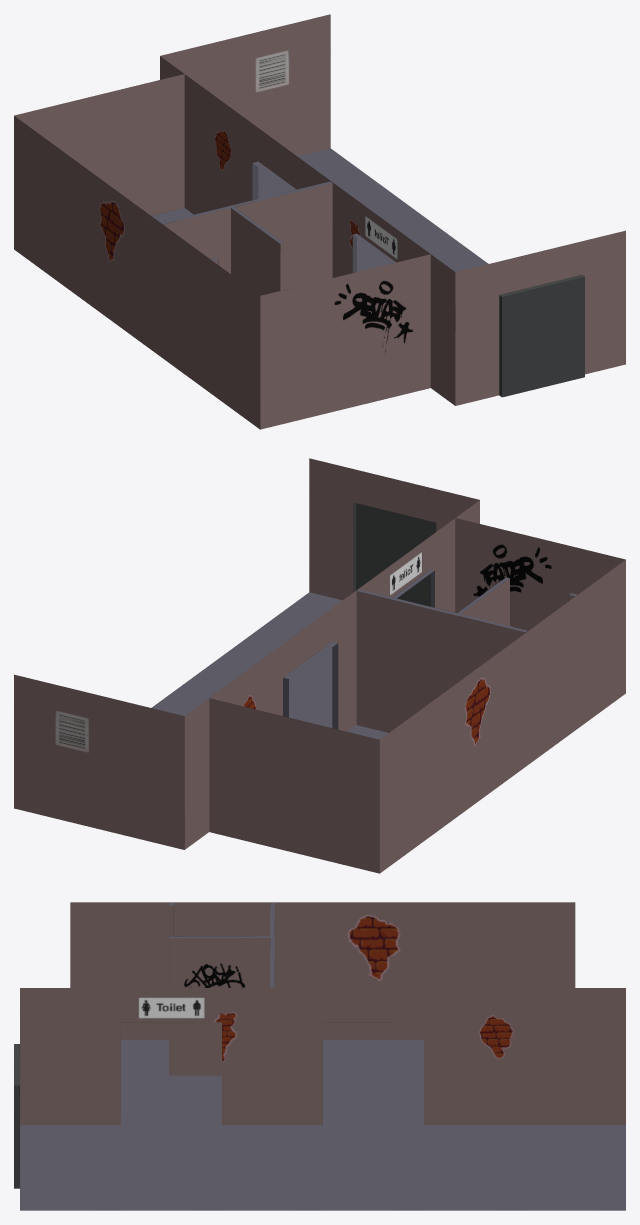
The model's file is ClubHallway.fbx.
3 views of the same model, one above another, from view 1: azimuth 30°, elevation 25°; view 2: azimuth 150°, elevation 25°; view 3: azimuth 270°, elevation 25° (orthographic). The views are drawn at different scales.
Parts seen in each view (by area): view 1: BaseHallway, BaseHallway.002, BaseHallway.001; view 2: BaseHallway, BaseHallway.002, BaseHallway.001; view 3: BaseHallway, BaseHallway.002, BaseHallway.001.
Part boxes in pixels (x1,y1,x2,y2): BaseHallway: [14, 14, 625, 429]; BaseHallway.002: [184, 74, 332, 214]; BaseHallway.001: [332, 182, 430, 277]; BaseHallway: [14, 458, 625, 873]; BaseHallway.002: [209, 590, 356, 731]; BaseHallway.001: [356, 518, 455, 612]; BaseHallway: [14, 902, 625, 1210]; BaseHallway.002: [272, 988, 575, 1124]; BaseHallway.001: [70, 988, 272, 1124].
Bounding box in the file's own units: 5.6 × 2.1 × 8.48.
